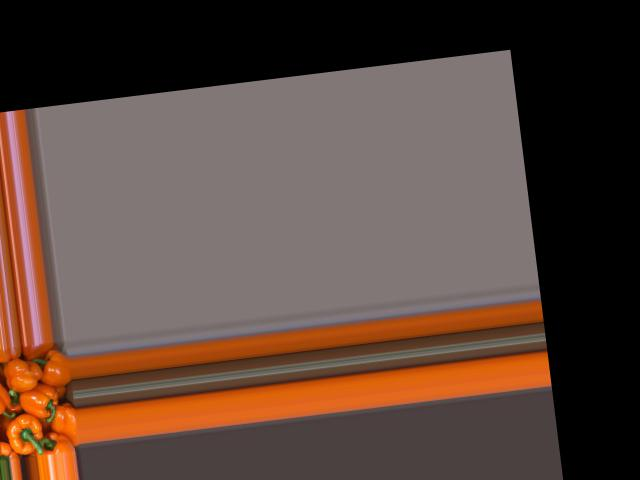bell_pepper: (13, 340, 59, 370)
